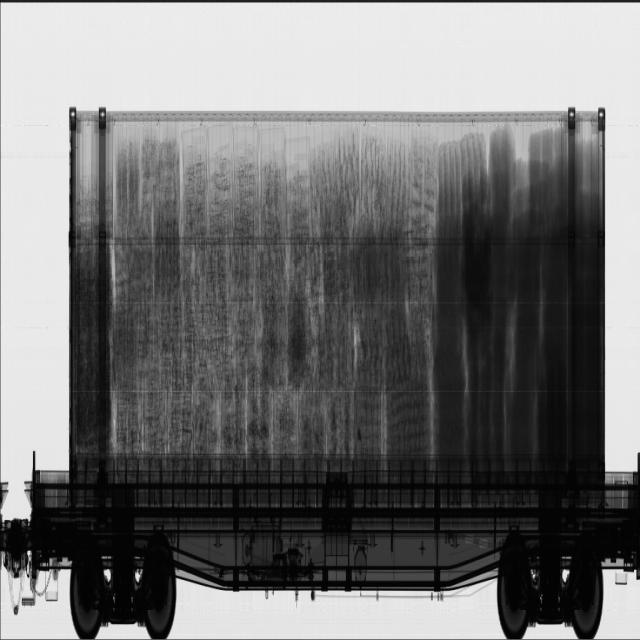clothes: (435, 128, 601, 470)
textiles: (351, 139, 435, 472)
